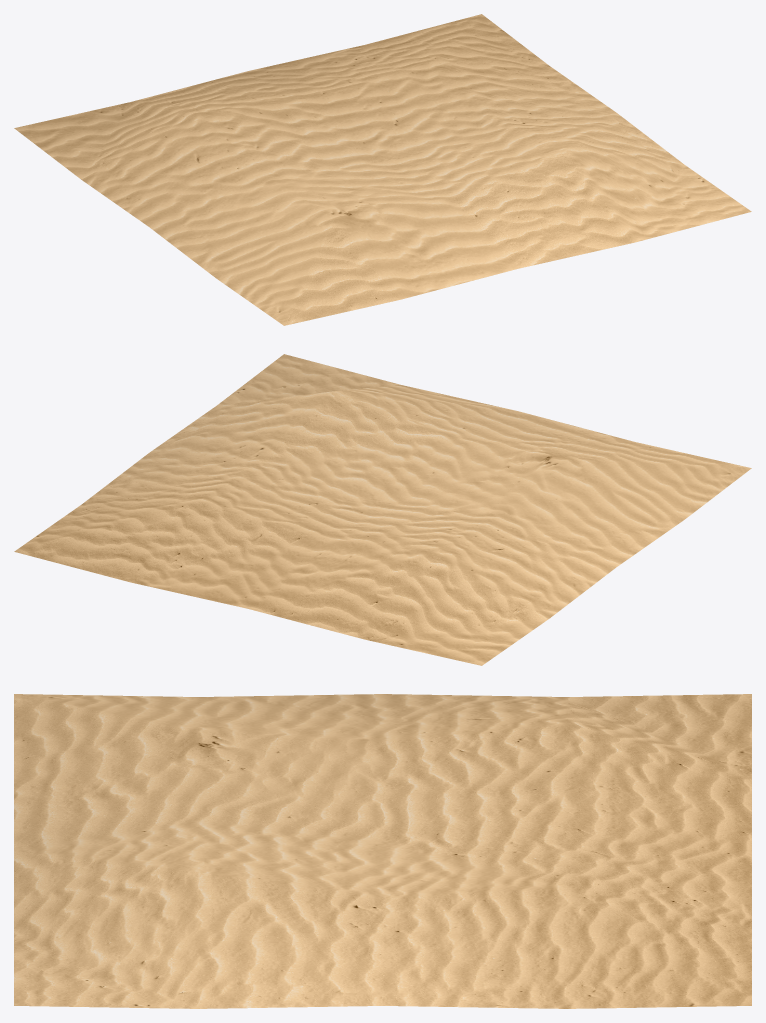
File: sand.FBX
3 renders of one model, top to bottom at view 1: azimuth 30°, elevation 25°; view 2: azimuth 150°, elevation 25°; view 3: azimuth 270°, elevation 25°, orthographic. The views are drawn at different scales.
Visible parts, largest first — view 1: Plane001; view 2: Plane001; view 3: Plane001.
Boxes of the visible parts, x1=… form: Plane001: x1=14, y1=14, x2=751, y2=325; Plane001: x1=14, y1=354, x2=751, y2=665; Plane001: x1=14, y1=694, x2=751, y2=1008.
Size of the model in its own units: 254 by 254 by 22.29.
Materials: 1 (1 with a texture image).
